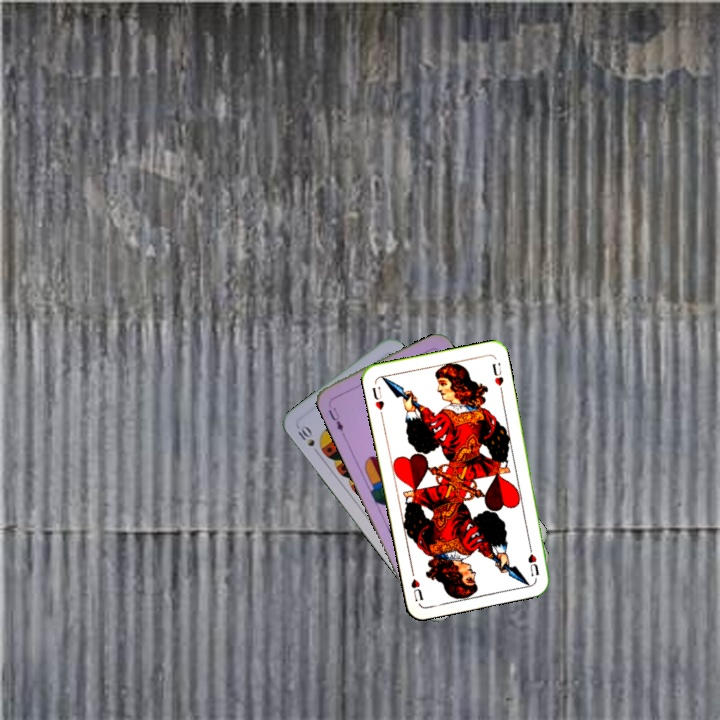EU: (324, 398, 346, 436)
HU: (524, 540, 542, 579), (368, 383, 386, 413)
S10: (293, 421, 317, 449)
